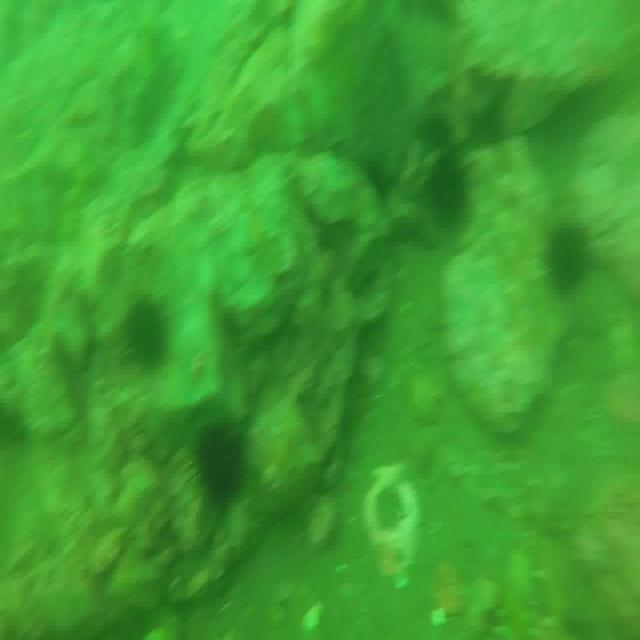echinus: (197, 422, 247, 506), (549, 209, 588, 294), (127, 298, 170, 368), (433, 155, 471, 218), (429, 106, 457, 158), (366, 155, 392, 205)
